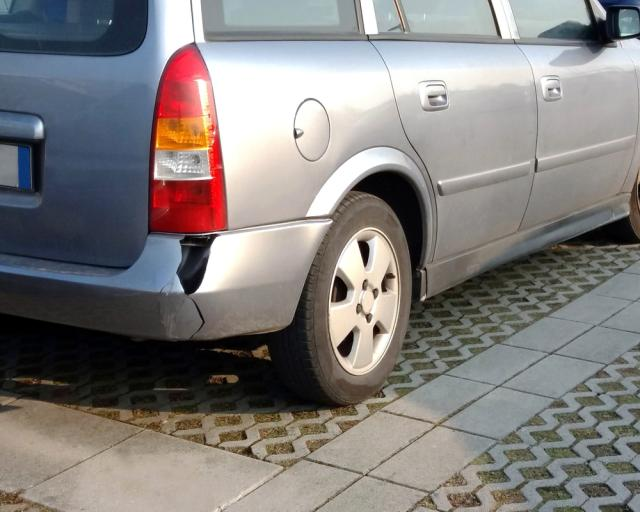crack: (158, 234, 221, 340)
